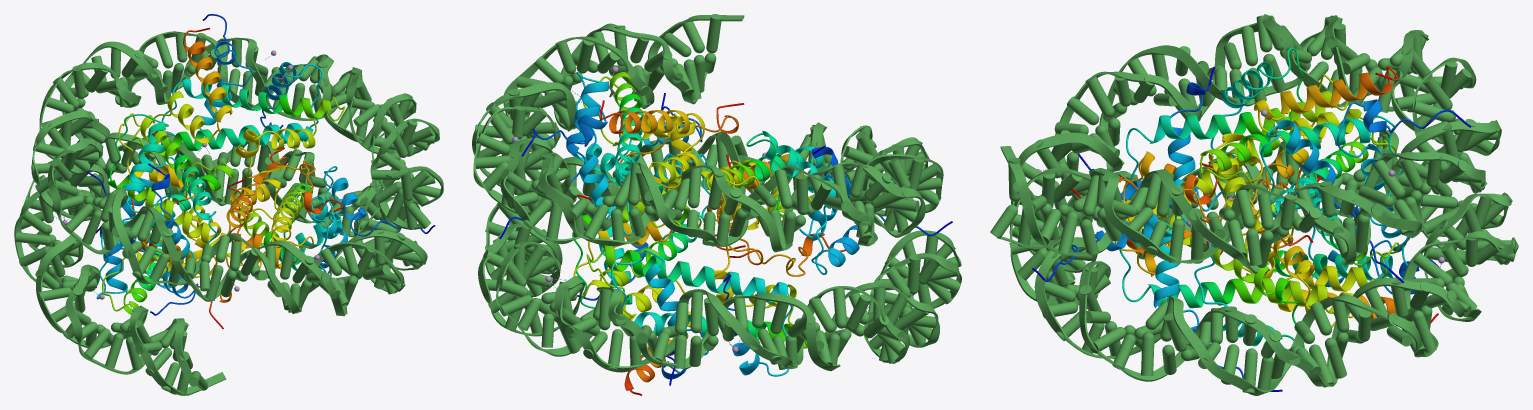
Rendered from nucleosome-dna-packaging-nih.glb.
3 views of the same model, side by side, from view 1: azimuth 30°, elevation 25°; view 2: azimuth 150°, elevation 25°; view 3: azimuth 270°, elevation 25° (orthographic). The views are drawn at different scales.
Visible parts, largest first — view 1: ribbons, nucleotides; view 2: nucleotides, ribbons; view 3: nucleotides, ribbons.
Boxes of the visible parts, box(x1,y1,x2,y2) form: ribbons: box(14, 14, 443, 395); nucleotides: box(16, 33, 440, 395); nucleotides: box(475, 14, 961, 369); ribbons: box(472, 15, 961, 395); nucleotides: box(990, 15, 1516, 392); ribbons: box(997, 14, 1518, 395).
Size of the model in its own units: 101 by 63.86 by 104.
